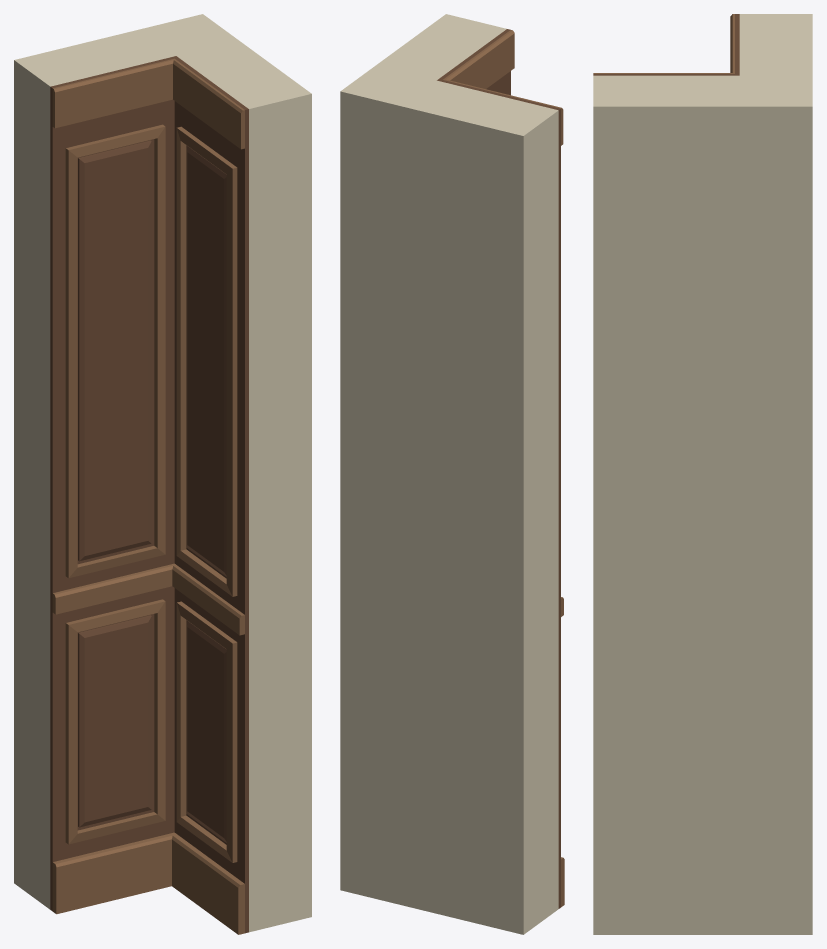
File: rpg-mansion-paneled-return-corner-01.glb
3 renders of one model, left to right at view 1: azimuth 30°, elevation 25°; view 2: azimuth 150°, elevation 25°; view 3: azimuth 270°, elevation 25°, orthographic. The views are drawn at different scales.
Visible parts, largest first — view 1: rpg-mansion-paneled-return-corner-01; view 2: rpg-mansion-paneled-return-corner-01; view 3: rpg-mansion-paneled-return-corner-01.
Boxes of the visible parts, x1,y1,x2,y2 form: rpg-mansion-paneled-return-corner-01: (14,14,311,934); rpg-mansion-paneled-return-corner-01: (340,14,564,934); rpg-mansion-paneled-return-corner-01: (593,14,812,934).
Bounding box in the file's own units: 0.72 × 3 × 0.72.
